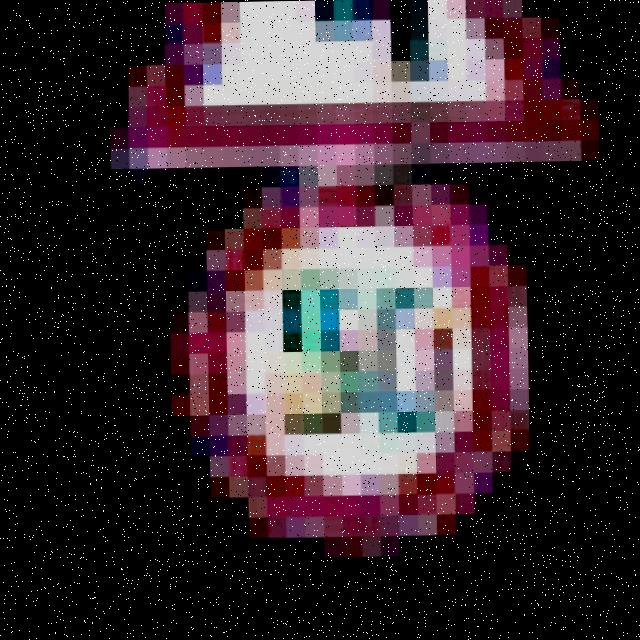Ograniczenie predkosci do 50: (178, 180, 528, 554)
